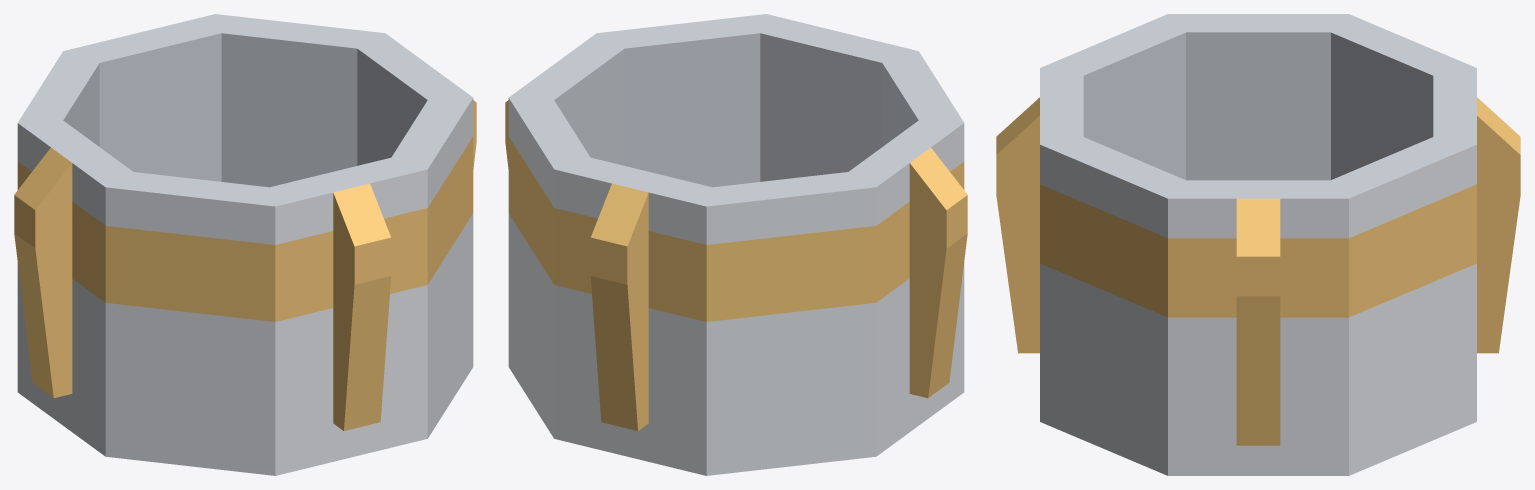
Rendered from rocket_finsB.glb.
3 renders of one model, left to right at view 1: azimuth 30°, elevation 25°; view 2: azimuth 150°, elevation 25°; view 3: azimuth 270°, elevation 25°, orthographic. The views are drawn at different scales.
Parts seen in each view (by area): view 1: rocket_finsB; view 2: rocket_finsB; view 3: rocket_finsB.
Boxes of the visible parts, x1,y1,x2,y2 form: rocket_finsB: (14,14,476,475); rocket_finsB: (505,14,967,475); rocket_finsB: (996,14,1520,475).
Bounding box in the file's own units: 1.2 × 0.7 × 1.2.
